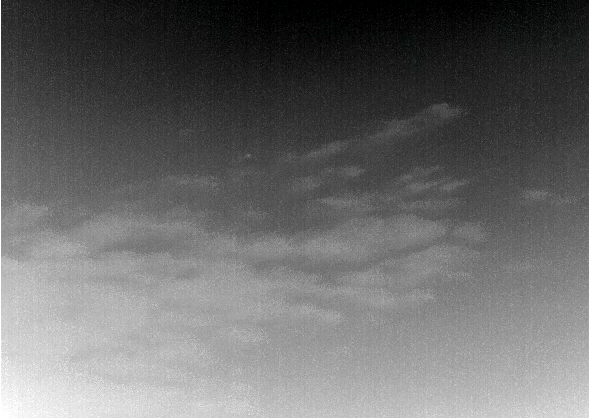dim target: (245, 153, 252, 158)
